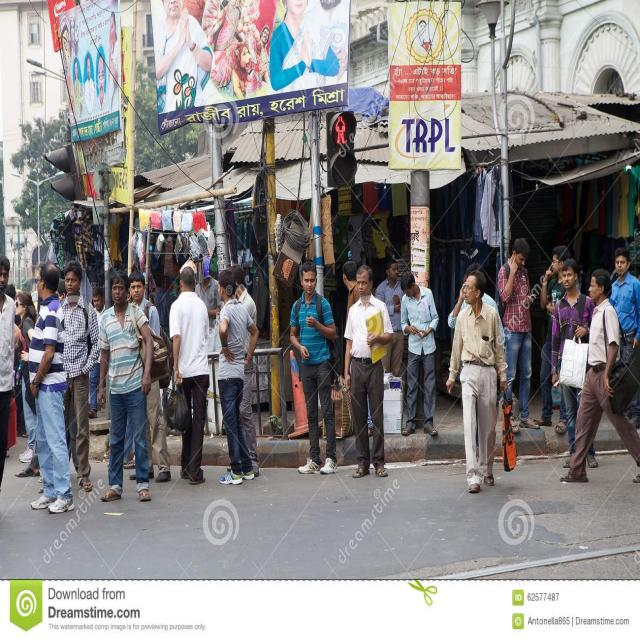body: (29, 0, 470, 172), (557, 268, 639, 486), (444, 270, 509, 497), (97, 268, 154, 502), (27, 260, 75, 514), (6, 282, 66, 482), (447, 263, 506, 466), (343, 264, 393, 478), (288, 260, 337, 474), (550, 259, 598, 469), (127, 270, 174, 483), (60, 259, 101, 492), (217, 267, 260, 485), (168, 265, 210, 487), (496, 238, 541, 433), (225, 264, 262, 478), (533, 246, 571, 432), (398, 269, 439, 437), (13, 290, 38, 463), (0, 255, 17, 490), (606, 248, 640, 363), (374, 258, 406, 378), (86, 286, 112, 419), (150, 270, 179, 346), (193, 274, 222, 331), (342, 260, 361, 338)
